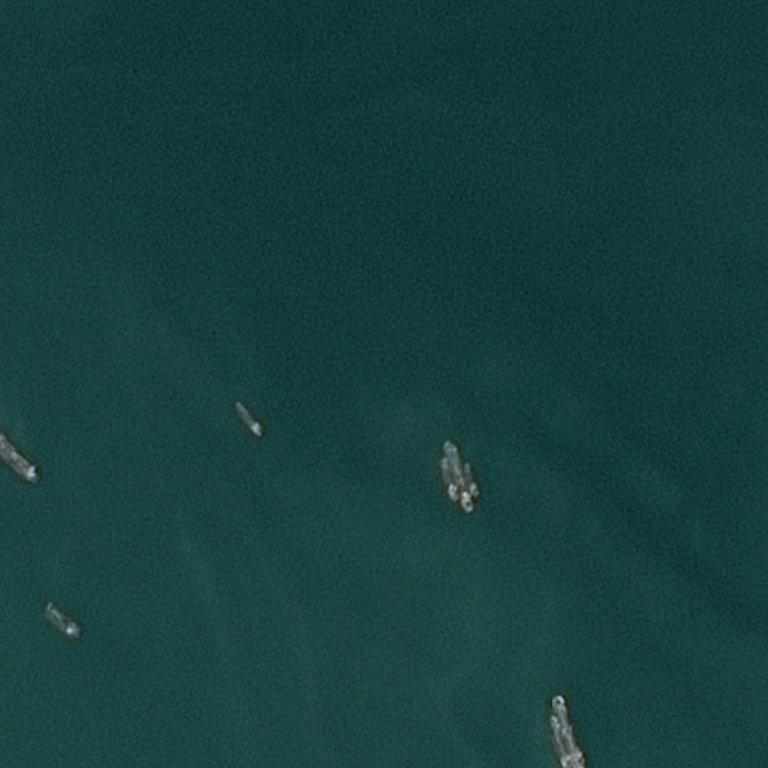ship: (437, 439, 481, 514), (542, 693, 585, 768), (0, 429, 40, 485), (43, 600, 85, 641), (233, 400, 266, 439), (556, 694, 561, 698), (30, 430, 34, 434), (464, 508, 468, 512), (26, 464, 31, 467), (256, 434, 260, 437), (34, 467, 37, 471), (72, 636, 76, 639), (235, 401, 238, 404), (446, 441, 450, 443), (47, 605, 49, 608), (572, 764, 575, 766), (81, 628, 82, 632), (1, 442, 2, 445), (582, 765, 584, 766), (474, 507, 474, 510)
